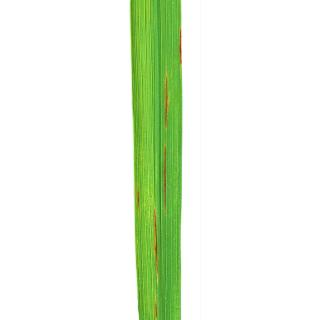Bercak-Cokelat-Sempit: (150, 209, 164, 320), (156, 142, 177, 210), (159, 74, 172, 141), (176, 25, 186, 68), (134, 184, 147, 209)
